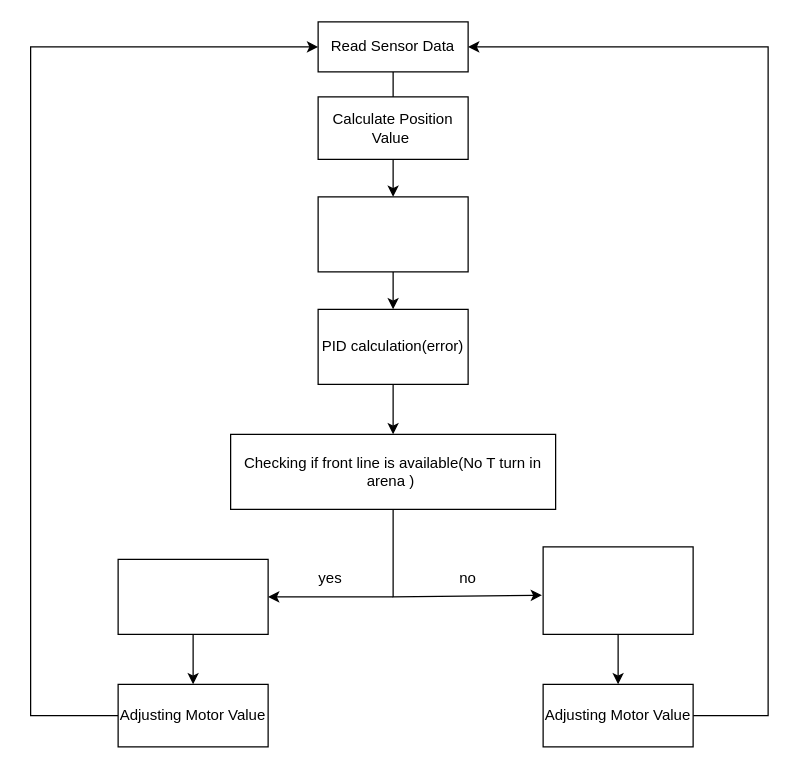
The diagram is 800 pixels wide and 769 high, and some of its shapes have lost their labels. Here are the shapes that lost their labels. From the top down, the box of each, then its label:
(317, 196, 468, 272): Error calculation based of different sensor with different weight
(117, 558, 268, 634): Go Straight with high speed
(542, 546, 693, 634): Take a turn based on position of line (Choice right turn on Y intersection)
